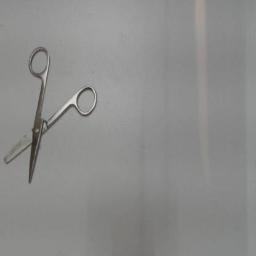Dressing Scissors: (0, 40, 100, 192)
